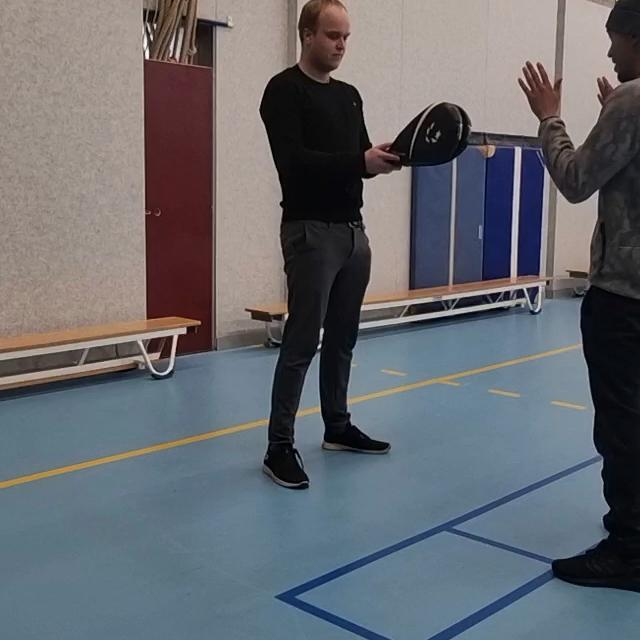paddle: (372, 95, 487, 173)
